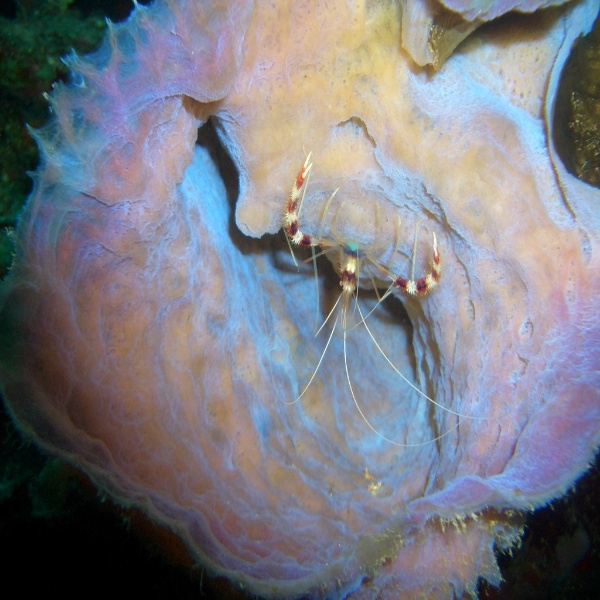Jellyfish: (0, 0, 598, 599)
